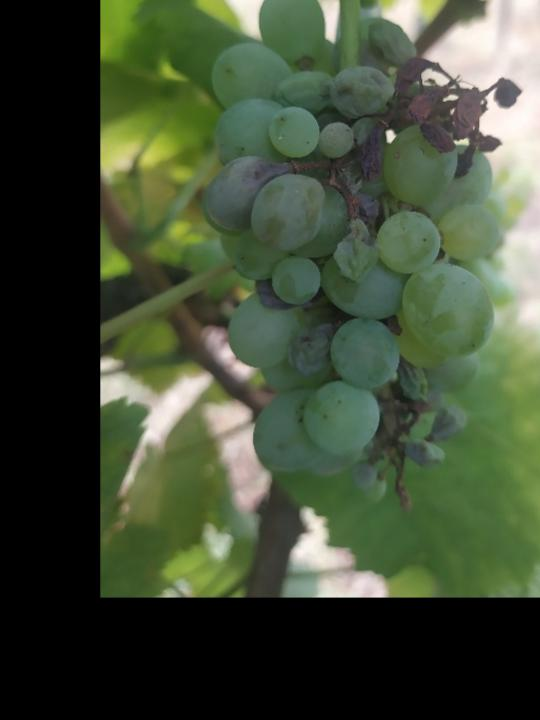grape: (197, 0, 525, 515)
